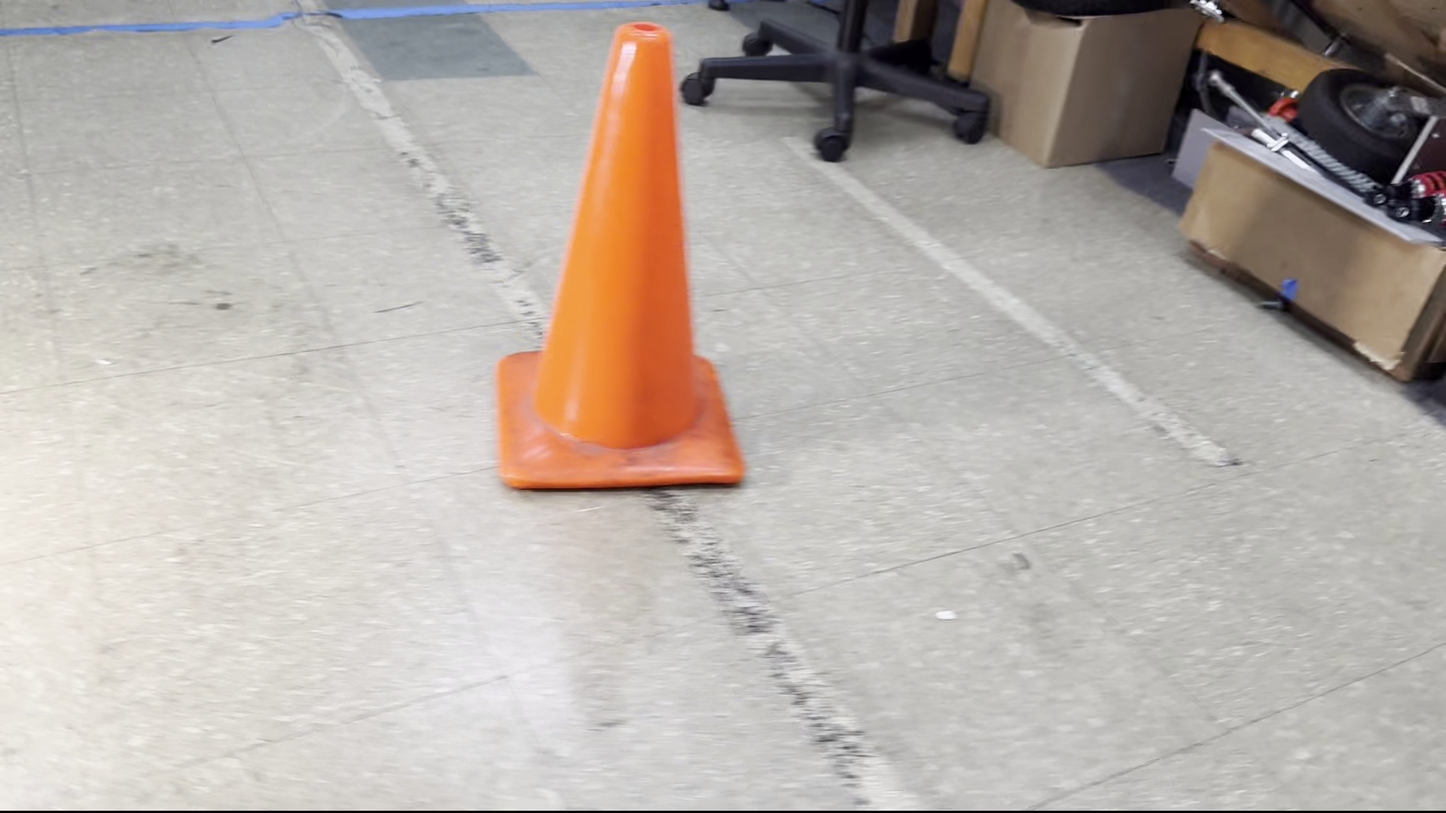traffic_cone: (495, 21, 746, 491)
